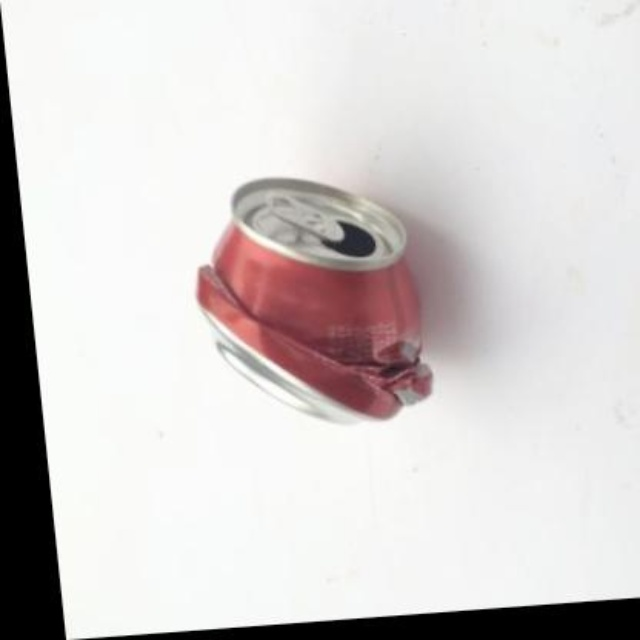trash: (197, 178, 431, 420)
